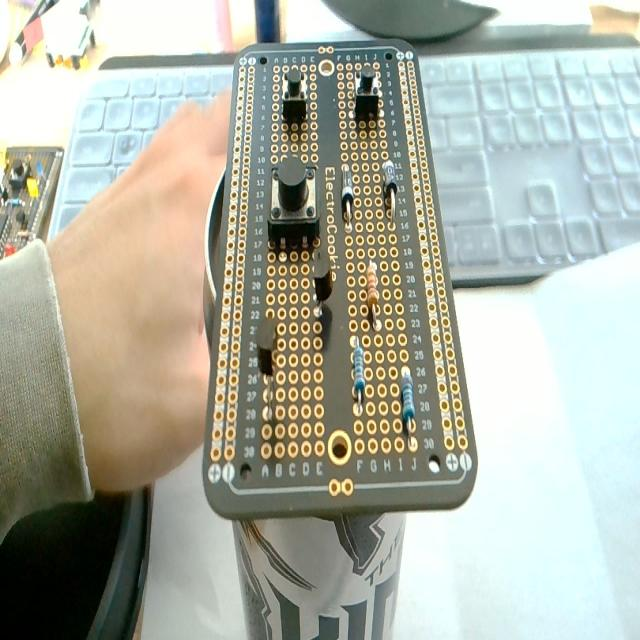diode: (381, 160, 398, 224), (341, 165, 354, 226)
resistor: (365, 257, 381, 332), (398, 368, 416, 434), (352, 335, 366, 414)
switch: (267, 159, 320, 250), (282, 68, 308, 124), (354, 63, 379, 120)
transistor: (256, 316, 277, 422), (311, 235, 334, 320)
